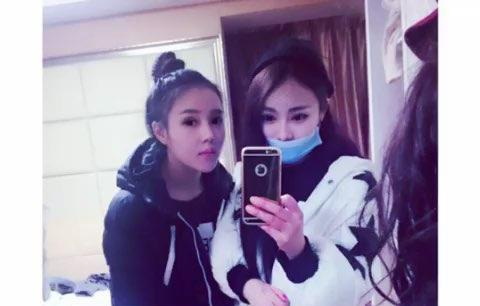NONE: (172, 106, 231, 172)
WRONG: (258, 101, 320, 163)
